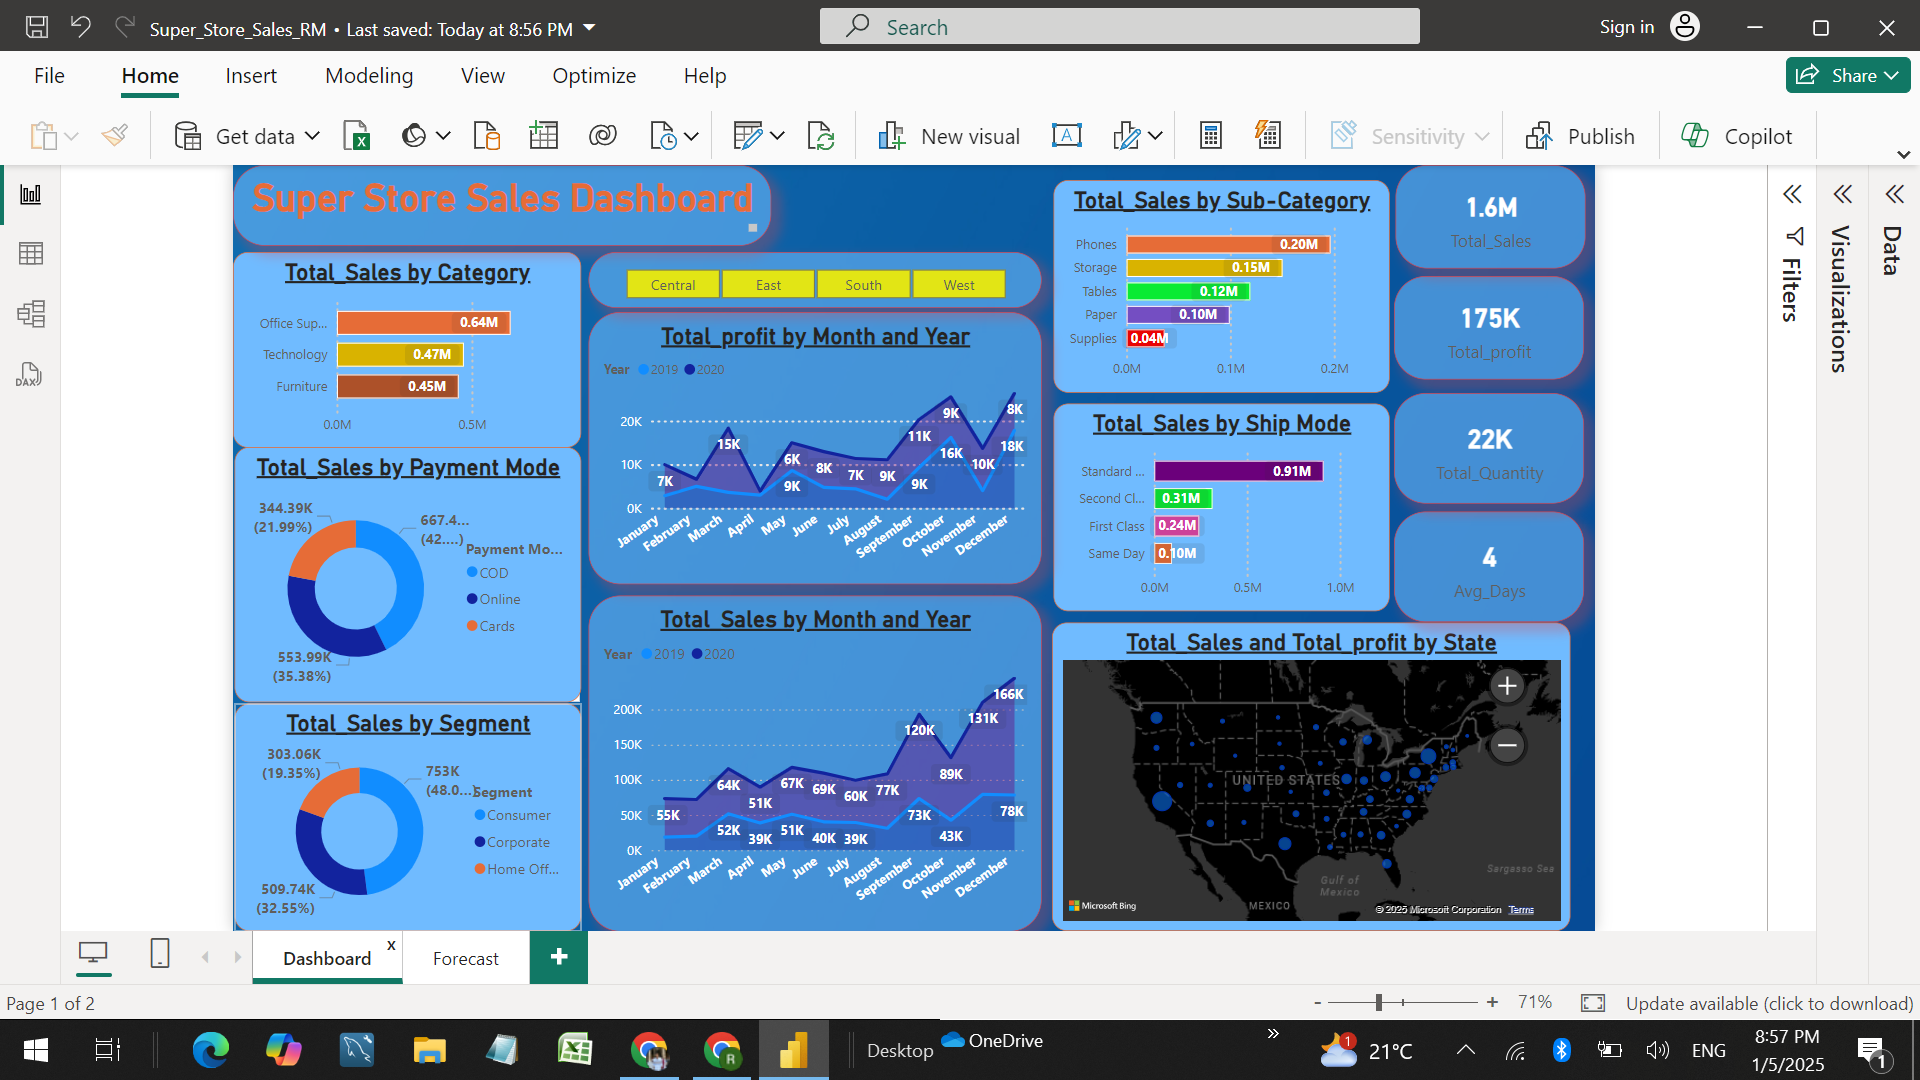

What the dashboard file says about the page in this screenshot:
{"tool":"powerbi","page":{"name":"Dashboard","canvas":[1280,720],"ordinal":0},"visuals":[{"type":"clusteredBarChart","fields":{"Category":["Sales.Category"],"Y":["Measures (2).total_Sales"]},"box":[0,81.4,327.1,184.3],"z":0},{"type":"clusteredBarChart","fields":{"Category":["Sales.Sub-Category"],"Y":["Measures (2).total_Sales"]},"box":[770.6,14.1,315.7,200.1],"z":1000},{"type":"clusteredBarChart","fields":{"Category":["Sales.Ship Mode"],"Y":["Measures (2).total_Sales"]},"box":[770.6,223.5,315.7,195.4],"z":2000},{"type":"stackedAreaChart","fields":{"Category":["Sales.Order Date.Variation.Date Hierarchy.Month"],"Series":["Sales.Order Date.Variation.Date Hierarchy.Year"],"Y":["Measures (2).Total_Sales"]},"box":[334.3,404.3,425.7,315.7],"z":3000},{"type":"stackedAreaChart","fields":{"Category":["Sales.Order Date.Variation.Date Hierarchy.Month"],"Series":["Sales.Order Date.Variation.Date Hierarchy.Year"],"Y":["Measures (2).Total_profit"]},"box":[334.3,138.6,425.7,255.7],"z":4000},{"type":"map","fields":{"Category":["Sales.State"],"Size":["Measures (2).Total_Sales"]},"box":[770,430,487.1,290],"z":5000},{"type":"donutChart","fields":{"Category":["Sales.Segment"],"Y":["Measures (2).Total_Sales"]},"box":[1.4,505.7,325.7,214.3],"z":6000},{"type":"donutChart","fields":{"Y":["Measures (2).Total_Sales"],"Category":["Sales.Payment Mode"]},"box":[1.4,265.7,325.7,240],"z":7000},{"type":"slicer","fields":{"Values":["Sales.Region"]},"box":[334.3,81.4,425.7,52.9],"z":8000},{"type":"textbox","title":"Super Store Sales Dashboard","box":[0,0,505.7,75.7],"z":9000},{"type":"card","fields":{"Values":["Measures (2).Total_profit"]},"box":[1091.4,104.3,178.6,97.1],"z":10000},{"type":"card","fields":{"Values":["Measures (2).Avg_Days"]},"box":[1091.4,325.7,178.6,104.3],"z":11000},{"type":"card","fields":{"Values":["Measures (2).Total_Sales"]},"box":[1092.9,0,178.6,97.1],"z":12000},{"type":"card","fields":{"Values":["Measures (2).Total_Quantity"]},"box":[1091.4,214.3,178.6,104.3],"z":13000}]}

Visuals, with their boxes on the page's 1280x720 design canvas (x1, y1, x2, y2). These are canvas units, not pixel positions in the 1920x1080 screenshot, which may show the page scaled, cropped or inside an application window:
clusteredBarChart - Sales.Category x Measures (2).total_Sales: region(0, 81, 327, 266)
clusteredBarChart - Sales.Sub-Category x Measures (2).total_Sales: region(771, 14, 1086, 214)
clusteredBarChart - Sales.Ship Mode x Measures (2).total_Sales: region(771, 224, 1086, 419)
stackedAreaChart - Sales.Order Date.Variation.Date Hierarchy.Month x Sales.Order Date.Variation.Date Hierarchy.Year: region(334, 404, 760, 720)
stackedAreaChart - Sales.Order Date.Variation.Date Hierarchy.Month x Sales.Order Date.Variation.Date Hierarchy.Year: region(334, 139, 760, 394)
map - Sales.State x Measures (2).Total_Sales: region(770, 430, 1257, 720)
donutChart - Sales.Segment x Measures (2).Total_Sales: region(1, 506, 327, 720)
donutChart - Measures (2).Total_Sales x Sales.Payment Mode: region(1, 266, 327, 506)
slicer - Sales.Region: region(334, 81, 760, 134)
"Super Store Sales Dashboard" textbox: region(0, 0, 506, 76)
card - Measures (2).Total_profit: region(1091, 104, 1270, 201)
card - Measures (2).Avg_Days: region(1091, 326, 1270, 430)
card - Measures (2).Total_Sales: region(1093, 0, 1272, 97)
card - Measures (2).Total_Quantity: region(1091, 214, 1270, 319)
